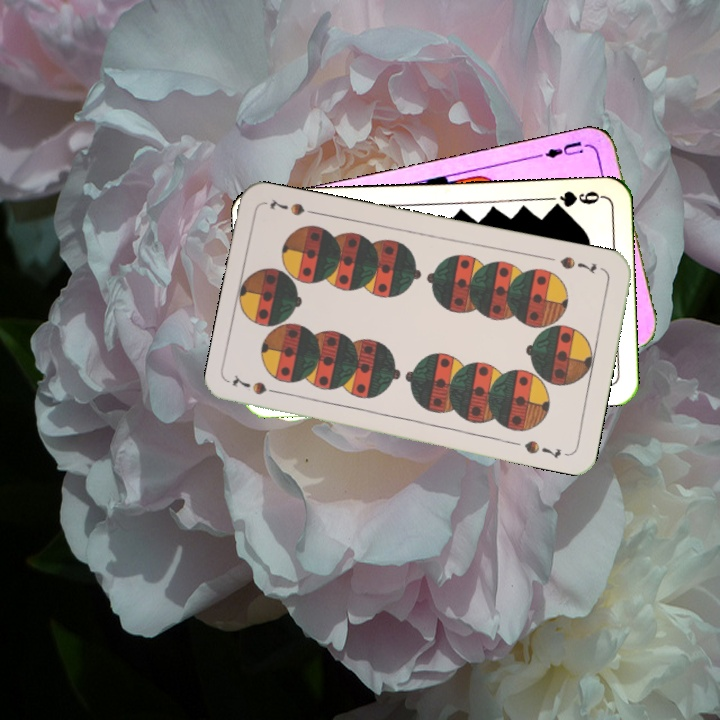EU: (534, 137, 586, 161)
G9: (547, 187, 605, 213)
S7: (228, 373, 287, 398), (556, 252, 600, 277)
